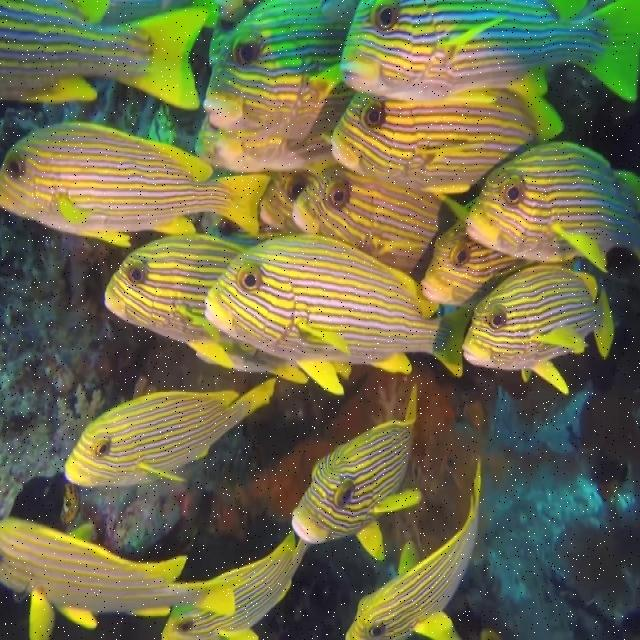fish: (206, 231, 473, 392), (0, 122, 271, 247), (106, 234, 306, 386), (343, 0, 639, 102), (0, 518, 238, 638), (334, 84, 562, 194), (63, 374, 276, 488), (347, 460, 482, 639), (292, 384, 424, 560), (0, 0, 206, 111), (204, 0, 362, 142), (466, 144, 639, 268), (292, 162, 460, 281), (463, 267, 614, 395), (160, 532, 311, 639), (422, 222, 536, 308)
